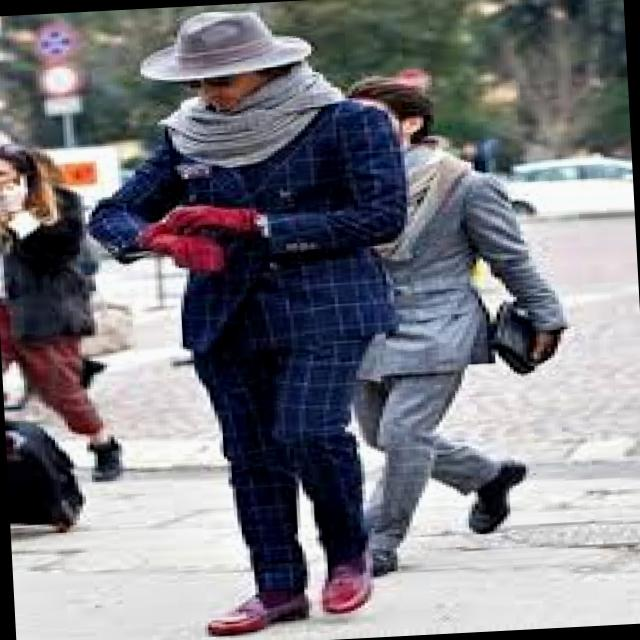hat: (139, 11, 310, 82)
